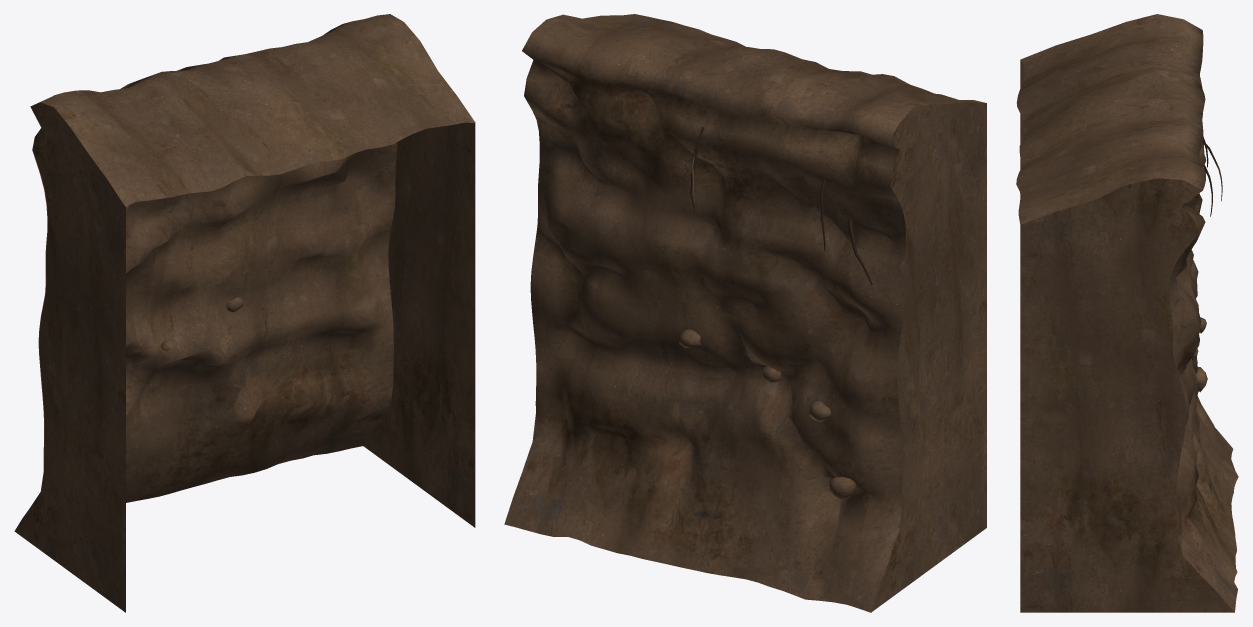
The model's file is S7U_EarthBank_2m_D.fbx.
3 renders of one model, left to right at view 1: azimuth 30°, elevation 25°; view 2: azimuth 150°, elevation 25°; view 3: azimuth 270°, elevation 25°, orthographic. The views are drawn at different scales.
Parts seen in each view (by area): view 1: S7U_EarthBank_2m_D; view 2: S7U_EarthBank_2m_D; view 3: S7U_EarthBank_2m_D.
Part boxes in pixels (left/top/right/bottom): S7U_EarthBank_2m_D: left=14, top=14, right=475, bottom=612; S7U_EarthBank_2m_D: left=504, top=14, right=986, bottom=612; S7U_EarthBank_2m_D: left=1016, top=14, right=1238, bottom=612.
Bounding box in the file's own units: 2 × 2.49 × 1.15.
